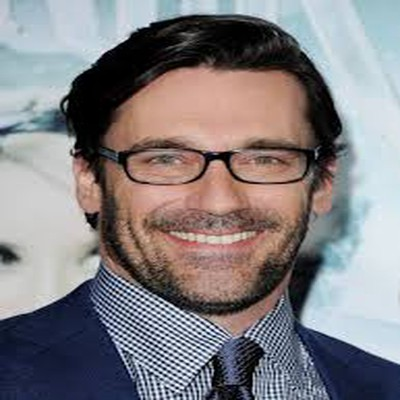eywear: (93, 102, 347, 216)
